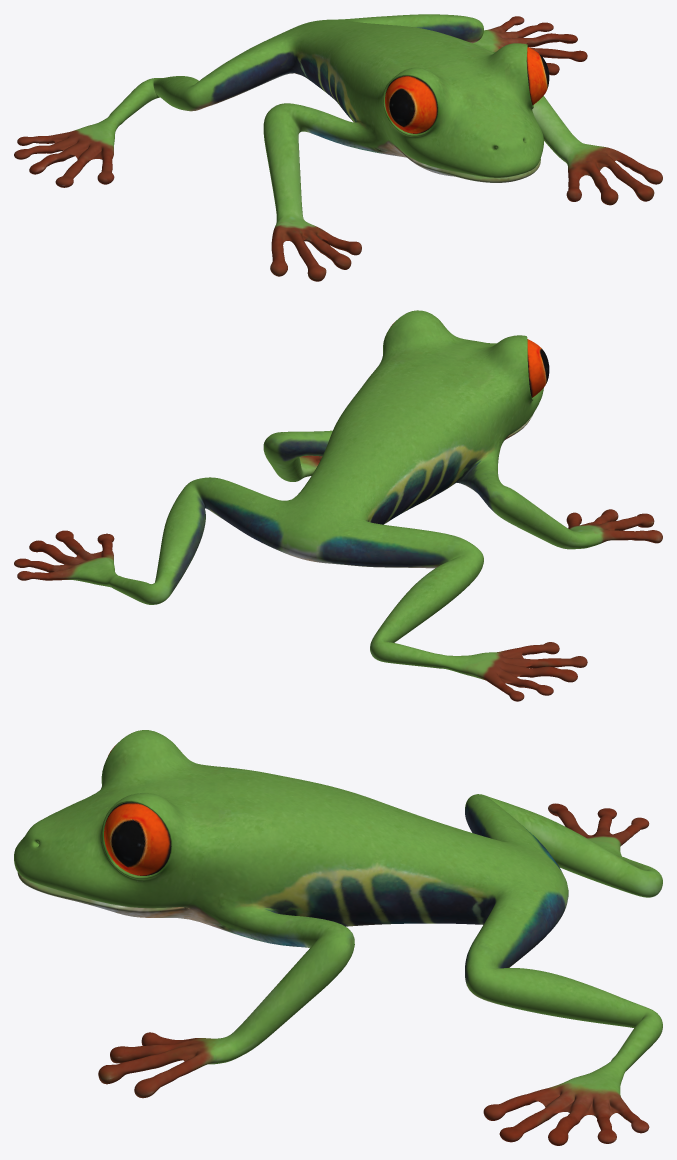
The model's file is Frog.glb.
3 renders of one model, top to bottom at view 1: azimuth 30°, elevation 25°; view 2: azimuth 150°, elevation 25°; view 3: azimuth 270°, elevation 25°, orthographic. The views are drawn at different scales.
Parts seen in each view (by area): view 1: Frog; view 2: Frog; view 3: Frog.
Boxes of the visible parts, x1,y1,x2,y2 form: Frog: [14, 14, 662, 281]; Frog: [14, 310, 662, 701]; Frog: [14, 730, 662, 1145].
Size of the model in its own units: 0.5685 by 0.1707 by 0.4629.
1 material, 1 textured.
